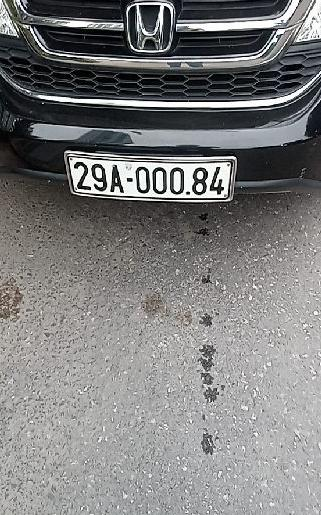Plate-iWeP: (67, 153, 235, 201)
